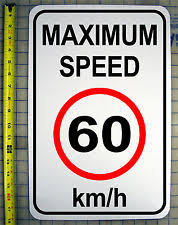Speed_limit_60km: (52, 88, 147, 179)
